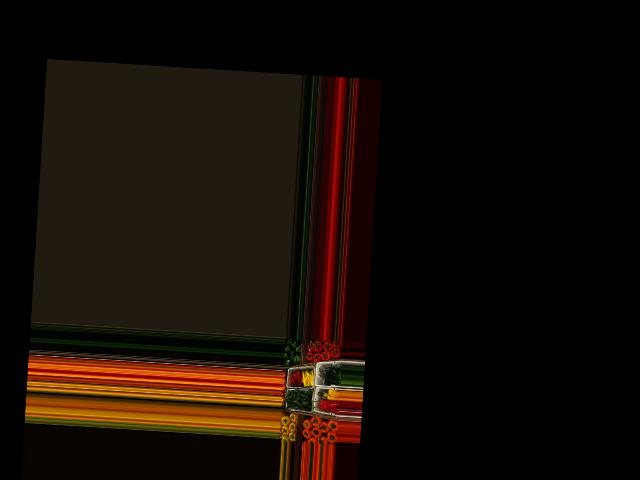bell_pepper: (292, 344, 303, 354)
